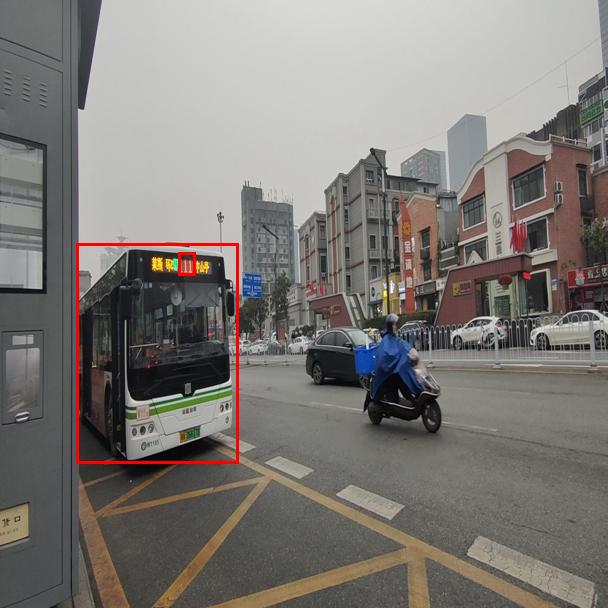bus: (76, 243, 238, 463)
screen: (178, 252, 195, 275)
